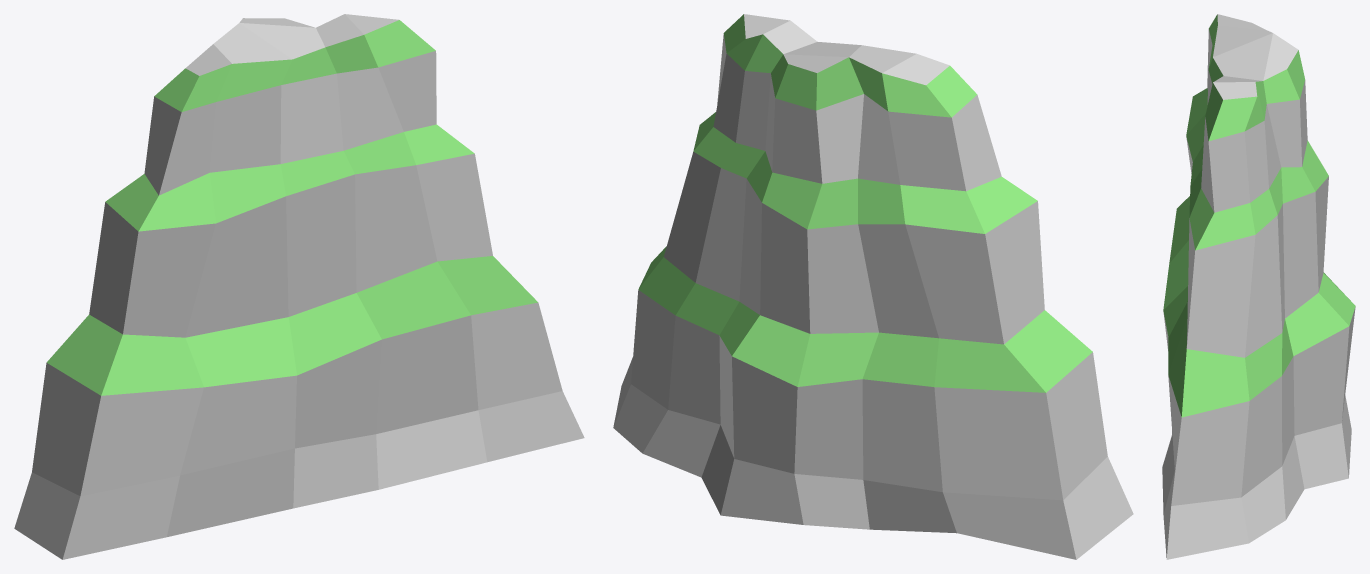
The model's file is Mounting_3.fbx.
3 renders of one model, left to right at view 1: azimuth 30°, elevation 25°; view 2: azimuth 150°, elevation 25°; view 3: azimuth 270°, elevation 25°, orthographic. The views are drawn at different scales.
Visible parts, largest first — view 1: High-Mountain; view 2: High-Mountain; view 3: High-Mountain.
Boxes of the visible parts, left/top/right/bottom form: High-Mountain: left=14, top=14, right=584, bottom=559; High-Mountain: left=613, top=14, right=1133, bottom=559; High-Mountain: left=1162, top=14, right=1355, bottom=559.
Bounding box in the file's own units: 2514 × 2087 × 898.
